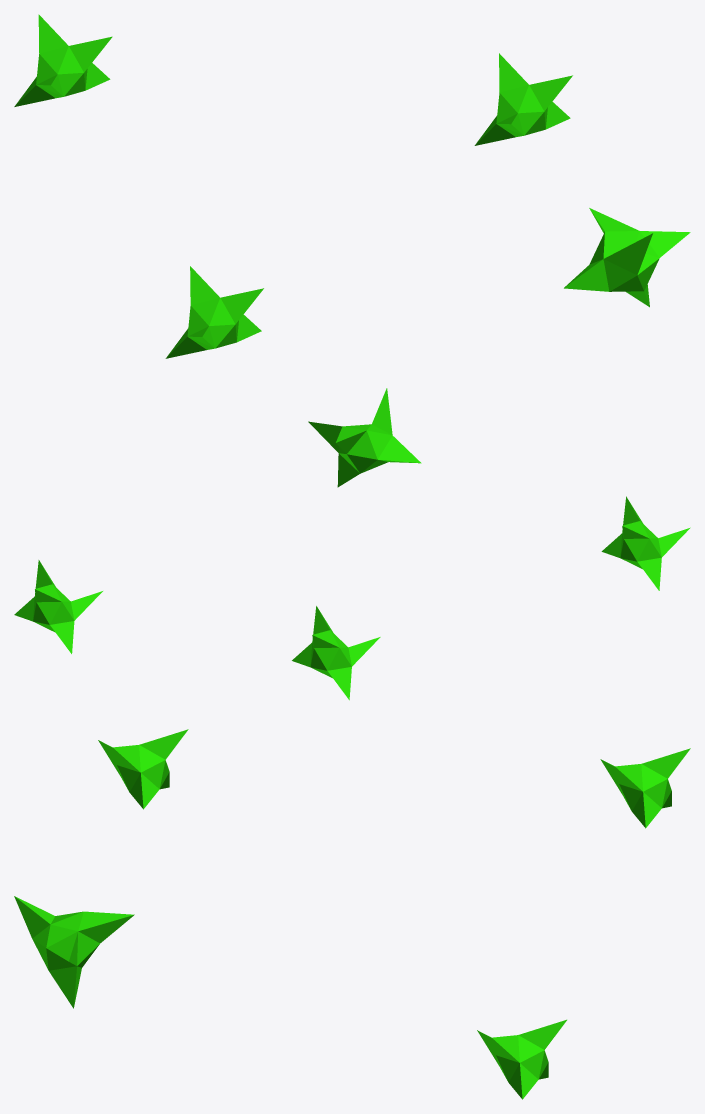
File: Patient_Virus.fbx
The picture shows the model from 3 angles, top to bottom: view 1: azimuth 30°, elevation 25°; view 2: azimuth 150°, elevation 25°; view 3: azimuth 270°, elevation 25°; orthographic projection. The views are drawn at different scales.
Visible parts, largest first — view 1: Icosphere.001; view 2: Icosphere.001; view 3: Icosphere.001.
Boxes of the visible parts, box(x1,y1,x2,y2) form: Icosphere.001: box(14, 14, 690, 358); Icosphere.001: box(14, 388, 690, 700); Icosphere.001: box(14, 729, 690, 1099).
Size of the model in its own units: 59.14 by 15.93 by 61.18.
